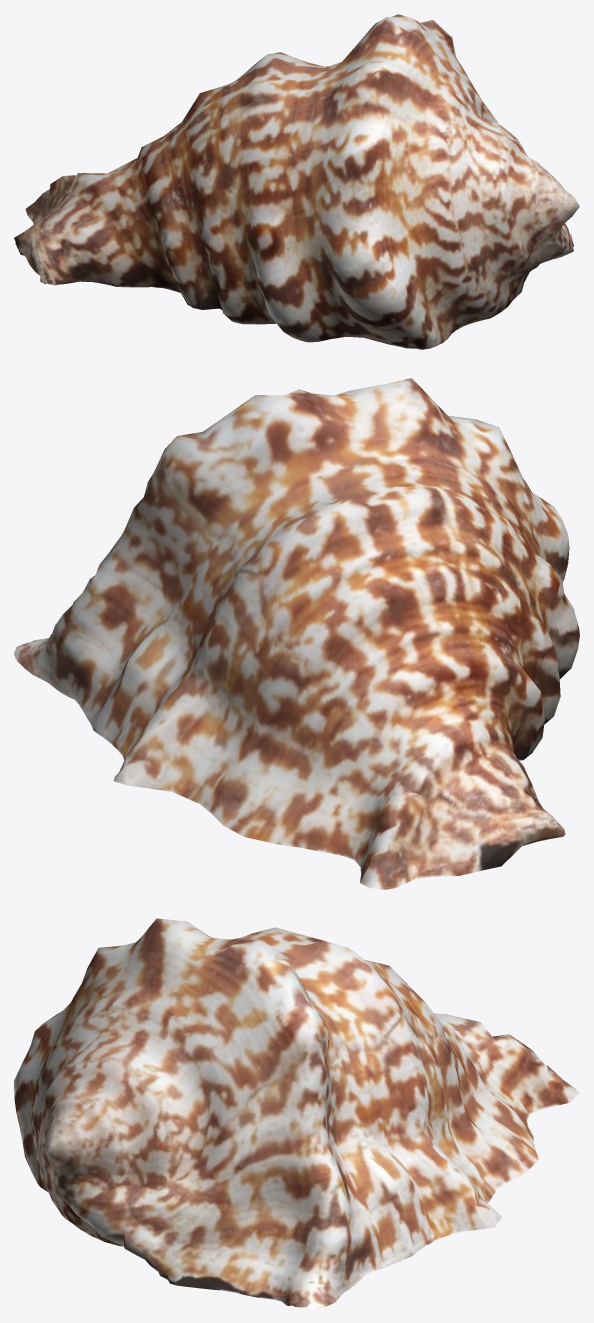
Rendered from Concha1.fbx.
The picture shows the model from 3 angles, top to bottom: view 1: azimuth 30°, elevation 25°; view 2: azimuth 150°, elevation 25°; view 3: azimuth 270°, elevation 25°; orthographic projection. The views are drawn at different scales.
Visible parts, largest first — view 1: HORNSHELL_LOW; view 2: HORNSHELL_LOW; view 3: HORNSHELL_LOW.
Part boxes in pixels (x1,y1,x2,y2): HORNSHELL_LOW: (14,14,579,349); HORNSHELL_LOW: (14,378,579,889); HORNSHELL_LOW: (14,918,579,1308).
Size of the model in its own units: 9938 by 4801 by 9088.
